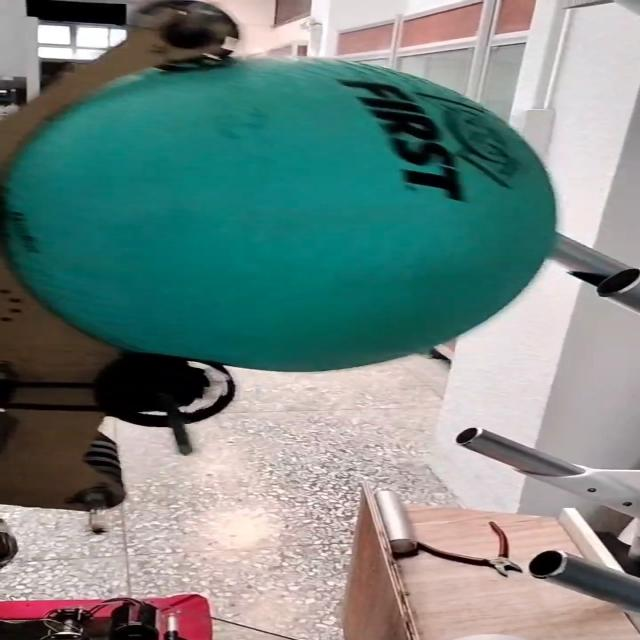ALGAE: (18, 58, 554, 372)
